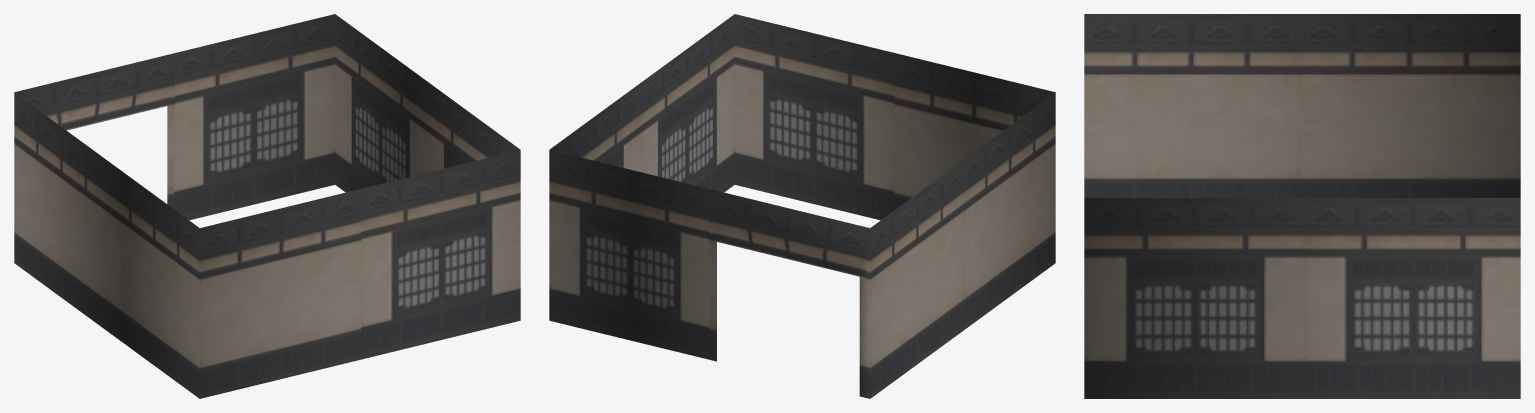
File: Homeworld_Interior_Dq_Room_L_Filling_01_Vo.fbx
3 renders of one model, left to right at view 1: azimuth 30°, elevation 25°; view 2: azimuth 150°, elevation 25°; view 3: azimuth 270°, elevation 25°, orthographic. The views are drawn at different scales.
Visible parts, largest first — view 1: Homeworld_Interior_Dq_Room_L_Filling_01_Vo; view 2: Homeworld_Interior_Dq_Room_L_Filling_01_Vo; view 3: Homeworld_Interior_Dq_Room_L_Filling_01_Vo.
Part boxes in pixels (bbox=[...]): Homeworld_Interior_Dq_Room_L_Filling_01_Vo: bbox=[14, 14, 520, 398]; Homeworld_Interior_Dq_Room_L_Filling_01_Vo: bbox=[549, 14, 1055, 398]; Homeworld_Interior_Dq_Room_L_Filling_01_Vo: bbox=[1084, 14, 1520, 398].
Size of the model in its own units: 9.79 by 4.98 by 9.81.
